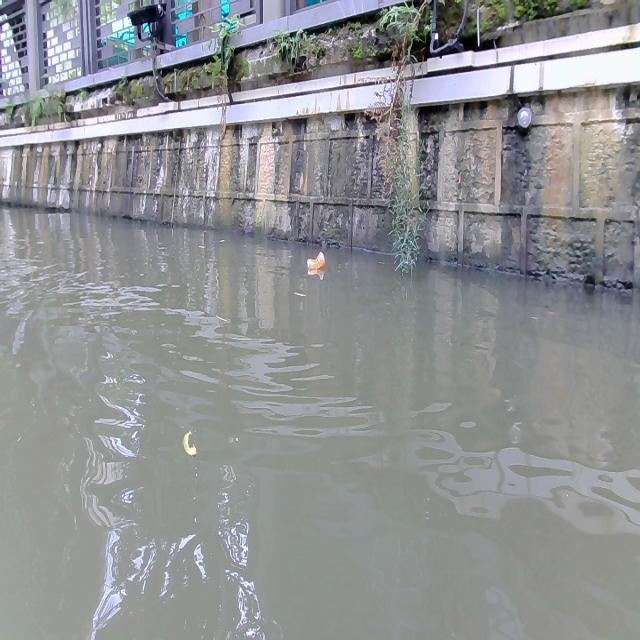bottle: (306, 251, 326, 270)
